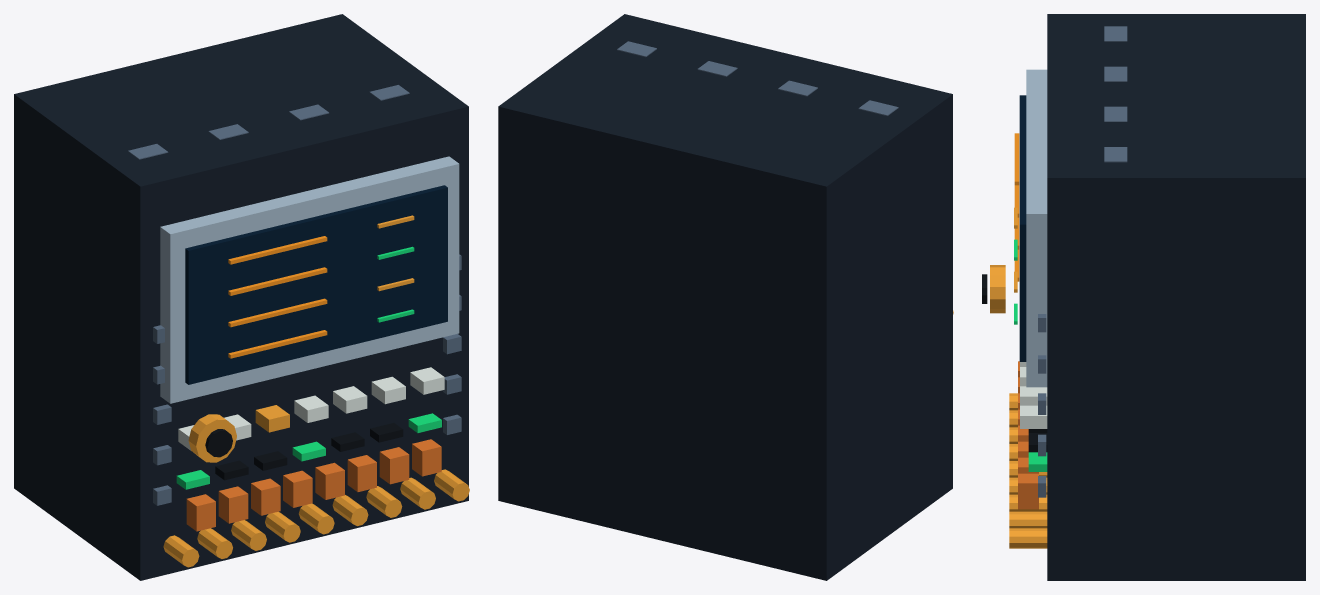
The model's file is 81_L88_WaterAndEnergySafetyInterlock.fbx.
3 renders of one model, left to right at view 1: azimuth 30°, elevation 25°; view 2: azimuth 150°, elevation 25°; view 3: azimuth 270°, elevation 25°, orthographic. The views are drawn at different scales.
Parts seen in each view (by area): view 1: L87_WaterAndEnergySafetyInterlock_Part_0000, L87_WaterAndEnergySafetyInterlock_Part_0002, L87_WaterAndEnergySafetyInterlock_Part_0001, L87_WaterAndEnergySafetyInterlock_Part_0009, L87_WaterAndEnergySafetyInterlock_Part_0004, L87_WaterAndEnergySafetyInterlock_Part_0008, L87_WaterAndEnergySafetyInterlock_Part_0006, L87_WaterAndEnergySafetyInterlock_Part_0003, L87_WaterAndEnergySafetyInterlock_Part_0007, L87_WaterAndEnergySafetyInterlock_Part_0005, L87_WaterAndEnergySafetyInterlock_Part_0010, L87_WaterAndEnergySafetyInterlock_Part_0011; view 2: L87_WaterAndEnergySafetyInterlock_Part_0000, L87_WaterAndEnergySafetyInterlock_Part_0008; view 3: L87_WaterAndEnergySafetyInterlock_Part_0000, L87_WaterAndEnergySafetyInterlock_Part_0001, L87_WaterAndEnergySafetyInterlock_Part_0004, L87_WaterAndEnergySafetyInterlock_Part_0008, L87_WaterAndEnergySafetyInterlock_Part_0002, L87_WaterAndEnergySafetyInterlock_Part_0009, L87_WaterAndEnergySafetyInterlock_Part_0006, L87_WaterAndEnergySafetyInterlock_Part_0010, L87_WaterAndEnergySafetyInterlock_Part_0003, L87_WaterAndEnergySafetyInterlock_Part_0005.
Part boxes in pixels (bbox=[...]): L87_WaterAndEnergySafetyInterlock_Part_0000: bbox=[14, 14, 468, 580]; L87_WaterAndEnergySafetyInterlock_Part_0002: bbox=[185, 185, 447, 384]; L87_WaterAndEnergySafetyInterlock_Part_0001: bbox=[160, 156, 459, 403]; L87_WaterAndEnergySafetyInterlock_Part_0009: bbox=[186, 439, 441, 531]; L87_WaterAndEnergySafetyInterlock_Part_0004: bbox=[163, 215, 469, 567]; L87_WaterAndEnergySafetyInterlock_Part_0008: bbox=[128, 85, 461, 505]; L87_WaterAndEnergySafetyInterlock_Part_0006: bbox=[178, 367, 444, 450]; L87_WaterAndEnergySafetyInterlock_Part_0003: bbox=[228, 236, 327, 358]; L87_WaterAndEnergySafetyInterlock_Part_0007: bbox=[215, 423, 403, 480]; L87_WaterAndEnergySafetyInterlock_Part_0005: bbox=[176, 246, 441, 489]; L87_WaterAndEnergySafetyInterlock_Part_0010: bbox=[188, 414, 236, 462]; L87_WaterAndEnergySafetyInterlock_Part_0011: bbox=[205, 429, 232, 457]; L87_WaterAndEnergySafetyInterlock_Part_0000: bbox=[498, 14, 952, 580]; L87_WaterAndEnergySafetyInterlock_Part_0008: bbox=[617, 41, 898, 115]; L87_WaterAndEnergySafetyInterlock_Part_0000: bbox=[1047, 14, 1305, 580]; L87_WaterAndEnergySafetyInterlock_Part_0001: bbox=[1026, 69, 1047, 387]; L87_WaterAndEnergySafetyInterlock_Part_0004: bbox=[1009, 207, 1047, 548]; L87_WaterAndEnergySafetyInterlock_Part_0008: bbox=[1038, 26, 1127, 497]; L87_WaterAndEnergySafetyInterlock_Part_0002: bbox=[1019, 95, 1026, 361]; L87_WaterAndEnergySafetyInterlock_Part_0009: bbox=[1018, 361, 1038, 509]; L87_WaterAndEnergySafetyInterlock_Part_0006: bbox=[1020, 362, 1047, 428]; L87_WaterAndEnergySafetyInterlock_Part_0010: bbox=[990, 265, 1005, 313]; L87_WaterAndEnergySafetyInterlock_Part_0003: bbox=[1014, 133, 1019, 281]; L87_WaterAndEnergySafetyInterlock_Part_0005: bbox=[1014, 239, 1047, 471].
Size of the model in its own units: 104 by 120 by 86.88.
